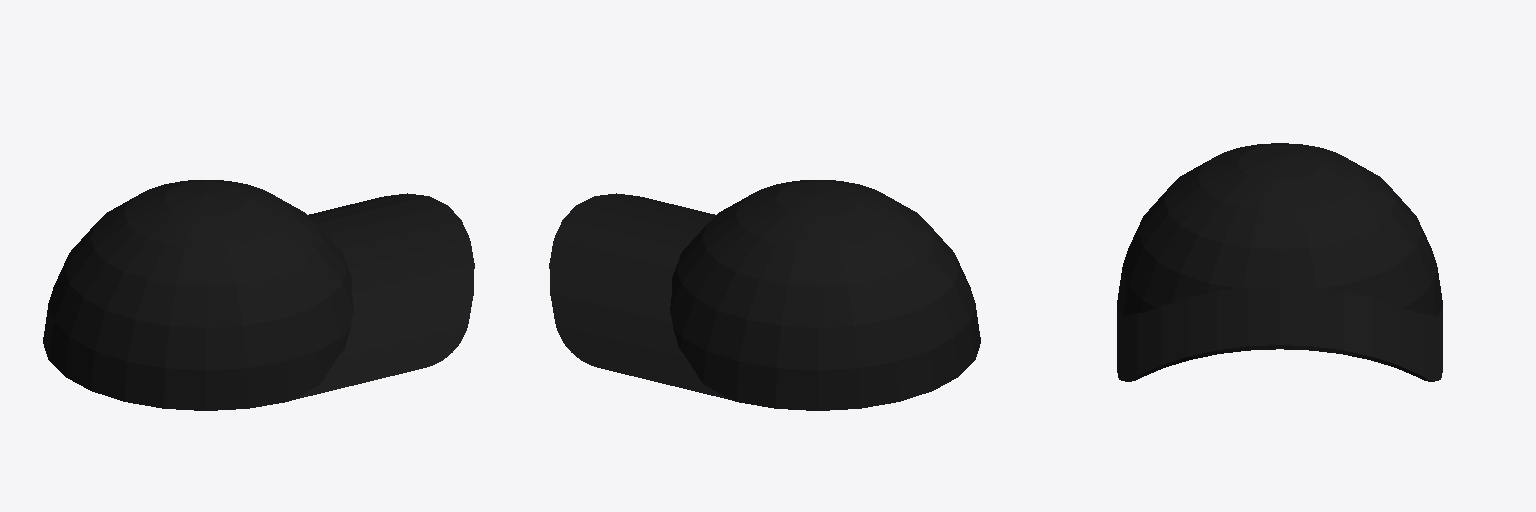
The picture shows the model from 3 angles: view 1: azimuth 30°, elevation 25°; view 2: azimuth 150°, elevation 25°; view 3: azimuth 270°, elevation 25°; orthographic projection.
Parts seen in each view (by area): view 1: SketchUp_ID3.008; view 2: SketchUp_ID3.008; view 3: SketchUp_ID3.008.
Boxes of the visible parts, <box> form: SketchUp_ID3.008: <box>43,180,474,410</box>; SketchUp_ID3.008: <box>549,180,980,410</box>; SketchUp_ID3.008: <box>1117,143,1442,381</box>.
Bounding box in the file's own units: 0.2921 × 0.1079 × 0.2159.